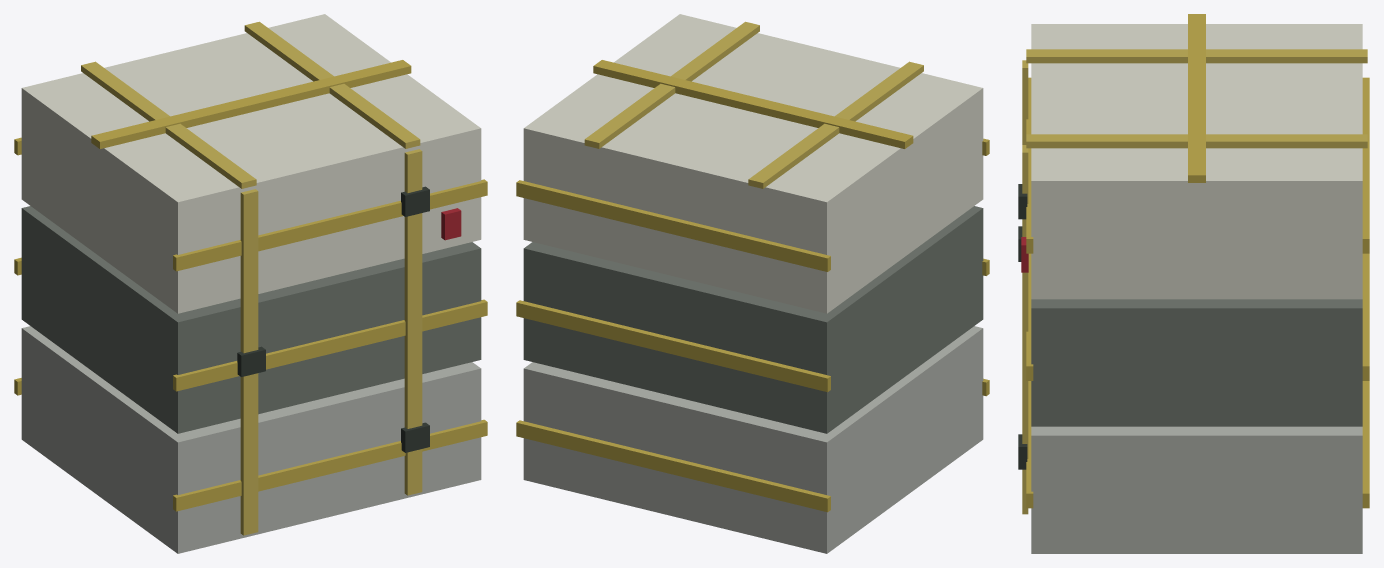
File: CMU3DStrappedCargoCase.glb
3 renders of one model, left to right at view 1: azimuth 30°, elevation 25°; view 2: azimuth 150°, elevation 25°; view 3: azimuth 270°, elevation 25°, orthographic. The views are drawn at different scales.
Parts seen in each view (by area): view 1: stacked packed cargo (×3), horizontal gold strap (×3), vertical gold strap (×2), lid gold strap (×2), crossing lid strap, black strap clasp (×3), cargo red marking; view 2: stacked packed cargo (×3), horizontal gold strap (×3), lid gold strap (×2), crossing lid strap; view 3: stacked packed cargo (×3), lid gold strap (×2), horizontal gold strap (×6), crossing lid strap, vertical gold strap (×2).
Boxes of the visible parts, bbox=[...] form: stacked packed cargo (×3): bbox=[21, 14, 481, 553]; horizontal gold strap (×3): bbox=[173, 179, 487, 511]; vertical gold strap (×2): bbox=[240, 149, 422, 535]; lid gold strap (×2): bbox=[81, 21, 420, 188]; crossing lid strap: bbox=[91, 60, 411, 148]; black strap clasp (×3): bbox=[237, 186, 429, 452]; cargo red marking: bbox=[441, 208, 461, 240]; stacked packed cargo (×3): bbox=[523, 14, 983, 553]; horizontal gold strap (×3): bbox=[516, 180, 830, 512]; lid gold strap (×2): bbox=[584, 21, 923, 188]; crossing lid strap: bbox=[593, 60, 913, 148]; stacked packed cargo (×3): bbox=[1031, 24, 1362, 553]; lid gold strap (×2): bbox=[1026, 49, 1367, 148]; horizontal gold strap (×6): bbox=[1026, 77, 1369, 508]; crossing lid strap: bbox=[1188, 14, 1205, 182]; vertical gold strap (×2): bbox=[1022, 60, 1028, 514].
Size of the model in its own units: 0.76 by 0.837 by 0.7.
